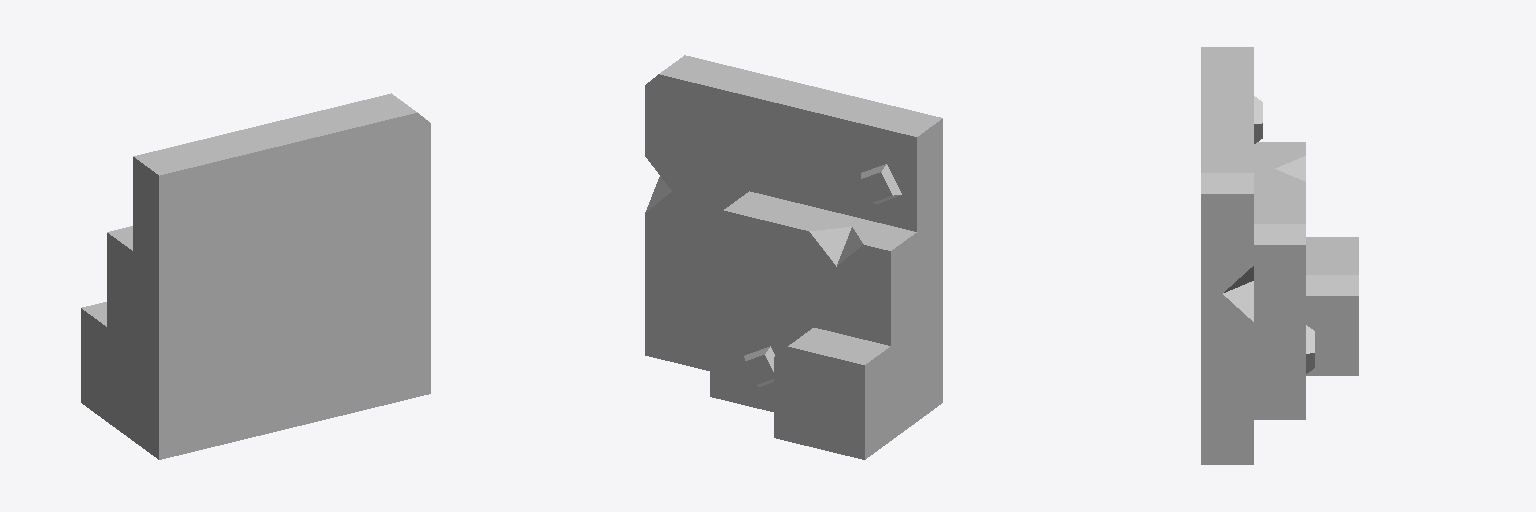
The model's file is stairs-corner.obj.
3 renders of one model, left to right at view 1: azimuth 30°, elevation 25°; view 2: azimuth 150°, elevation 25°; view 3: azimuth 270°, elevation 25°, orthographic.
Parts seen in each view (by area): view 1: stairs-corner.008; view 2: stairs-corner.008; view 3: stairs-corner.008.
Part boxes in pixels (x1,y1,x2,y2): stairs-corner.008: (81, 93, 430, 459); stairs-corner.008: (645, 55, 942, 459); stairs-corner.008: (1201, 47, 1358, 464).
Bounding box in the file's own units: 1 × 1 × 0.5.